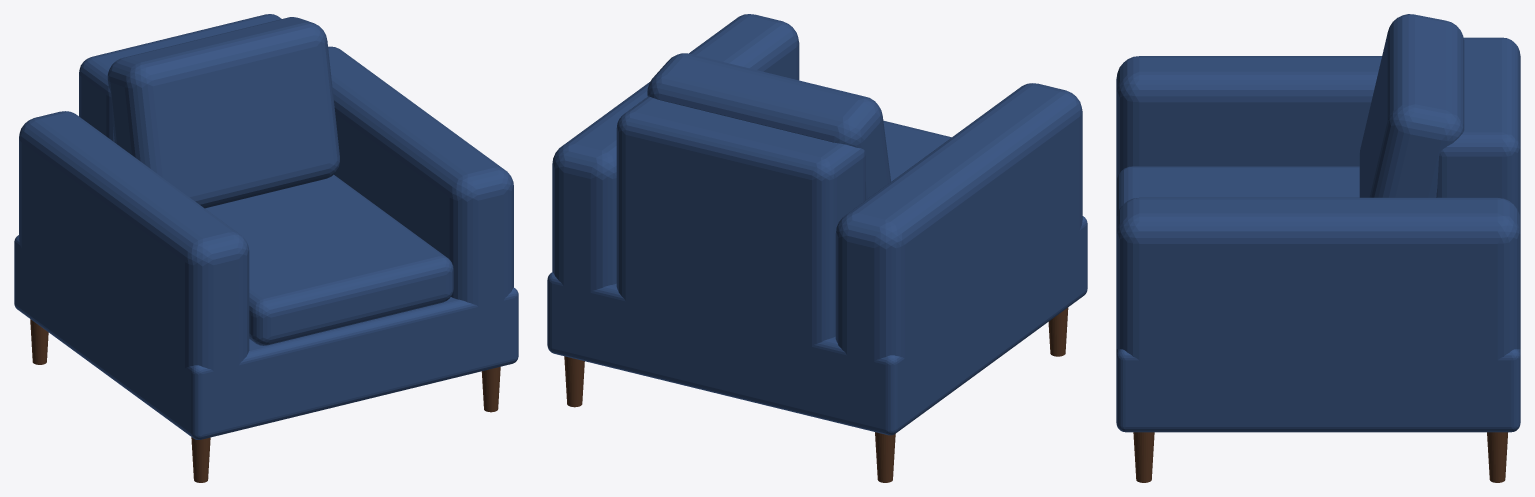
Rendered from 003_upholstered_armchair.glb.
3 renders of one model, left to right at view 1: azimuth 30°, elevation 25°; view 2: azimuth 150°, elevation 25°; view 3: azimuth 270°, elevation 25°, orthographic. The views are drawn at different scales.
Visible parts, largest first — view 1: 005_sofa_arm_l, 009_sofa_back_cushion_1, 004_sofa_base_frame, 008_sofa_seat_cushion_1, 006_sofa_arm_r, 007_sofa_back_frame, 002_sofa_leg, 003_sofa_leg, 000_sofa_leg; view 2: 007_sofa_back_frame, 005_sofa_arm_l, 004_sofa_base_frame, 006_sofa_arm_r, 009_sofa_back_cushion_1, 008_sofa_seat_cushion_1, 000_sofa_leg, 001_sofa_leg, 002_sofa_leg; view 3: 006_sofa_arm_r, 004_sofa_base_frame, 005_sofa_arm_l, 009_sofa_back_cushion_1, 007_sofa_back_frame, 008_sofa_seat_cushion_1, 003_sofa_leg, 001_sofa_leg.
Boxes of the visible parts, x1,y1,x2,y2 form: 005_sofa_arm_l: (19,111,249,420); 009_sofa_back_cushion_1: (107,17,339,208); 004_sofa_base_frame: (14,235,518,439); 008_sofa_seat_cushion_1: (205,174,453,345); 006_sofa_arm_r: (328,46,513,336); 007_sofa_back_frame: (79,14,281,142); 002_sofa_leg: (191,437,210,482); 003_sofa_leg: (481,367,500,412); 000_sofa_leg: (30,319,48,364); 007_sofa_back_frame: (616,96,865,400); 005_sofa_arm_l: (835,83,1082,414); 004_sofa_base_frame: (547,216,1087,435); 006_sofa_arm_r: (552,14,799,306); 009_sofa_back_cushion_1: (647,53,891,199); 008_sofa_seat_cushion_1: (883,120,951,181); 000_sofa_leg: (875,432,895,482); 001_sofa_leg: (564,356,584,407); 002_sofa_leg: (1048,307,1068,356); 006_sofa_arm_r: (1116,197,1520,414); 004_sofa_base_frame: (1116,349,1520,432); 005_sofa_arm_l: (1116,56,1381,181); 009_sofa_back_cushion_1: (1359,14,1464,197); 007_sofa_back_frame: (1436,37,1520,219); 008_sofa_seat_cushion_1: (1116,166,1359,219); 003_sofa_leg: (1133,432,1154,482); 001_sofa_leg: (1487,432,1507,482).
Bounding box in the file's own units: 0.9 × 0.8214 × 0.88.
